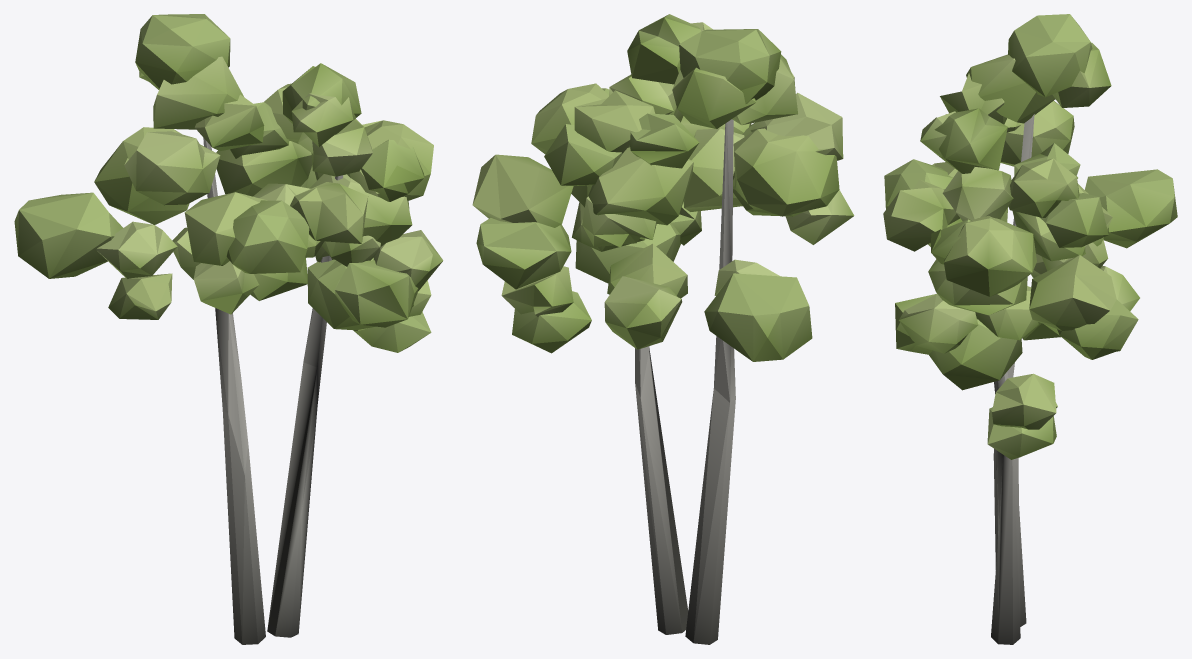
File: river_birch_pair-lod1.glb
3 renders of one model, left to right at view 1: azimuth 30°, elevation 25°; view 2: azimuth 150°, elevation 25°; view 3: azimuth 270°, elevation 25°, orthographic. The views are drawn at different scales.
Parts seen in each view (by area): view 1: river_birch_pair; view 2: river_birch_pair; view 3: river_birch_pair.
Part boxes in pixels (x1,y1,x2,y2): river_birch_pair: (14,14,443,644); river_birch_pair: (472,14,854,644); river_birch_pair: (883,14,1177,644).
Size of the model in its own units: 6.15 by 10.79 by 4.95.
